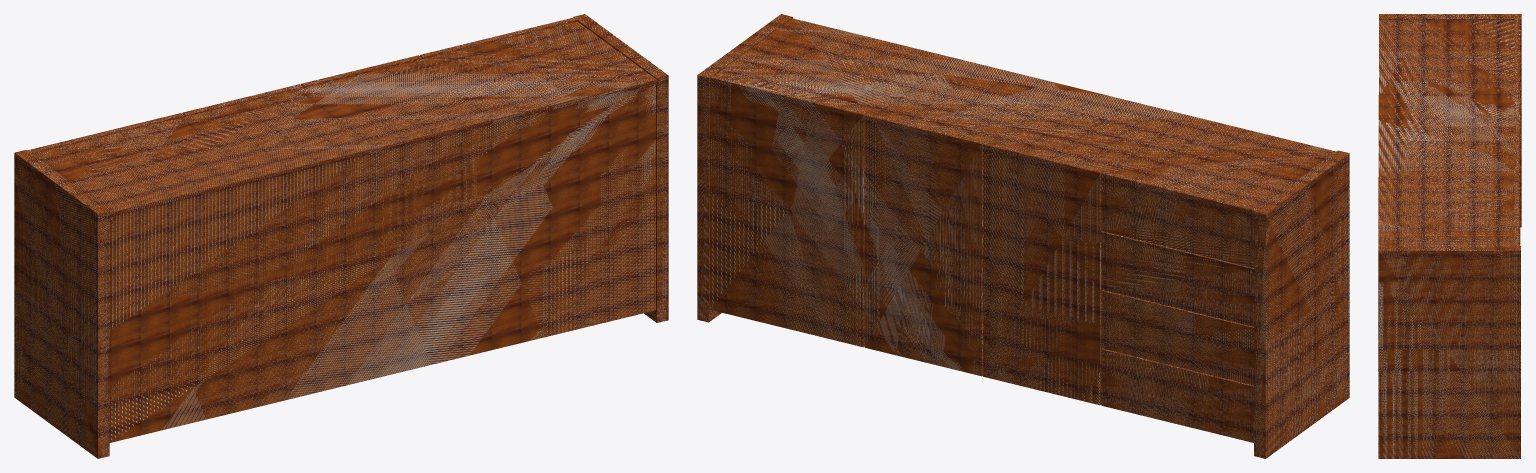
The picture shows the model from 3 angles, left to right: view 1: azimuth 30°, elevation 25°; view 2: azimuth 150°, elevation 25°; view 3: azimuth 270°, elevation 25°; orthographic projection. The views are drawn at different scales.
Parts seen in each view (by area): view 1: mesh1_mesh1-geometry; view 2: mesh1_mesh1-geometry; view 3: mesh1_mesh1-geometry.
Part boxes in pixels (left/top/right/bottom): mesh1_mesh1-geometry: left=14, top=14, right=668, bottom=458; mesh1_mesh1-geometry: left=697, top=14, right=1349, bottom=458; mesh1_mesh1-geometry: left=1378, top=14, right=1521, bottom=458.
Bounding box in the file's own units: 0.9002 × 0.3693 × 0.2308.
